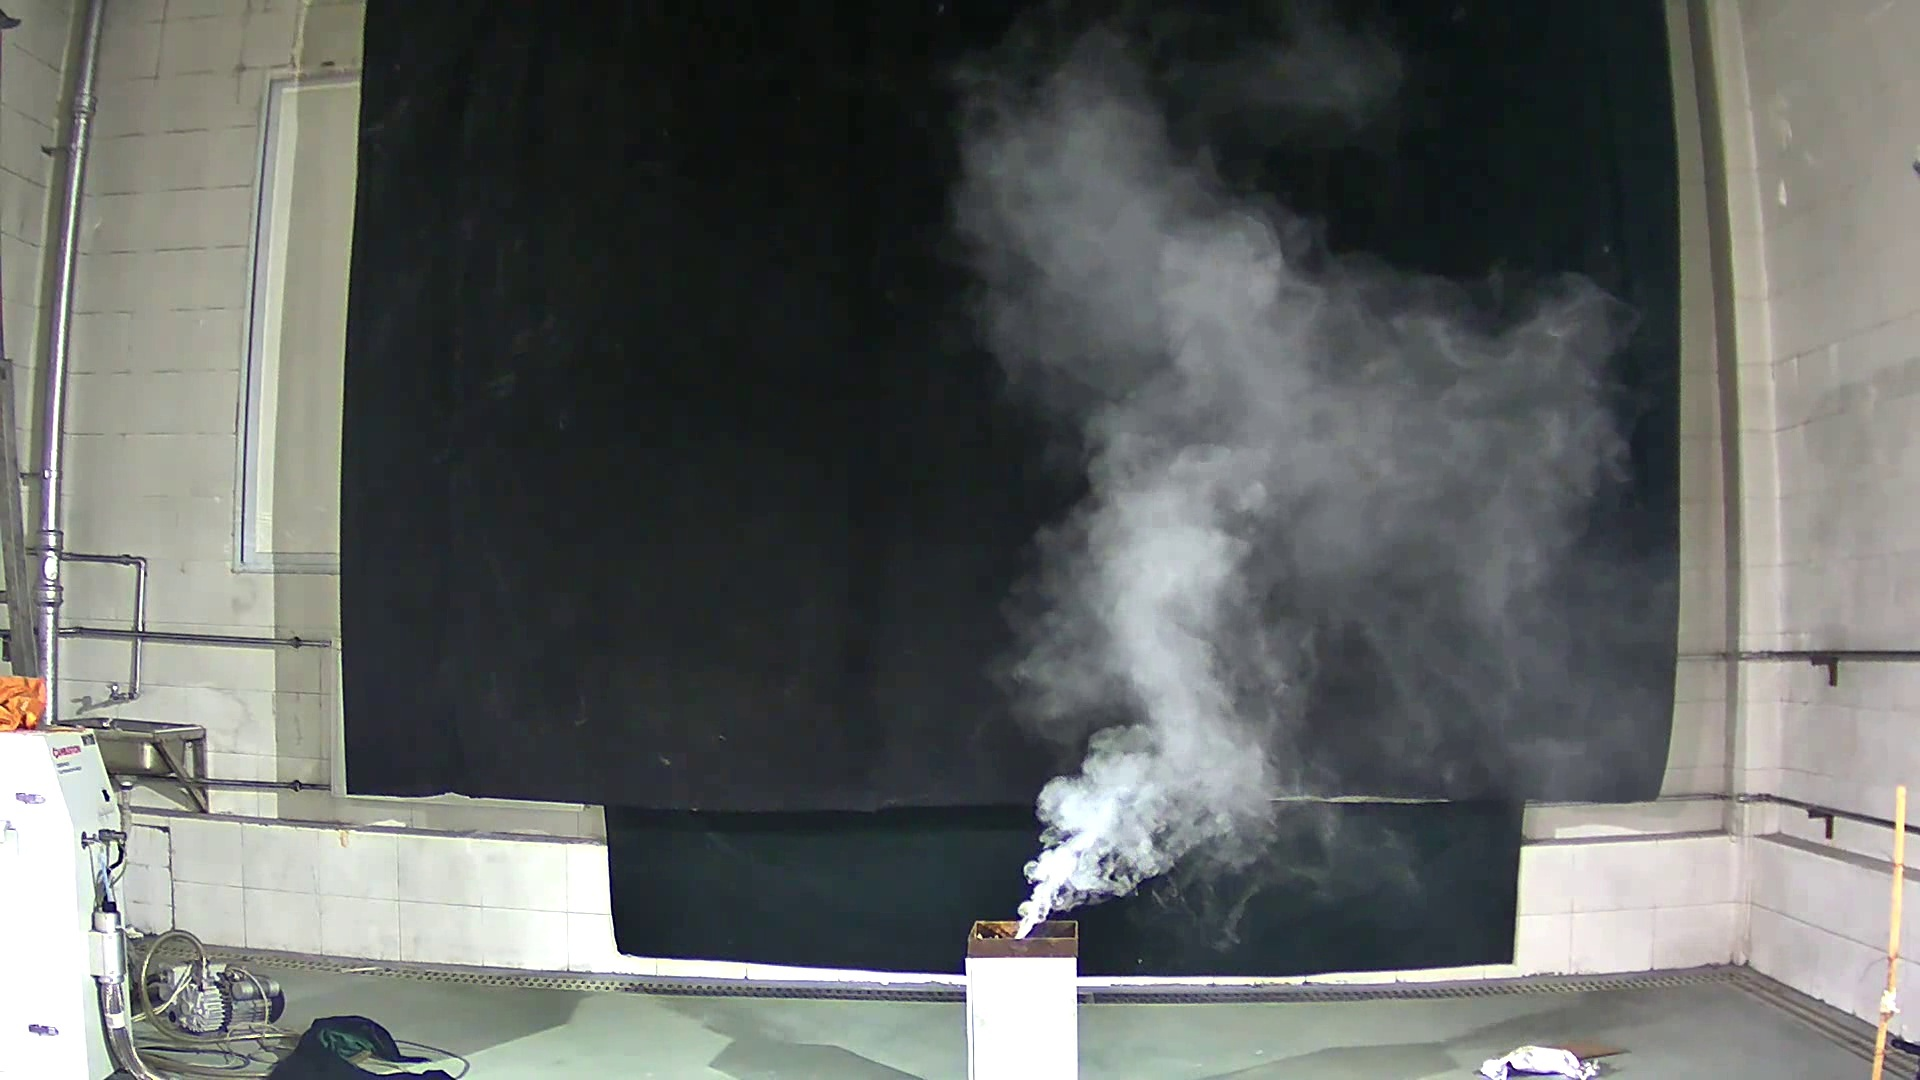smoke: (924, 34, 1642, 942)
